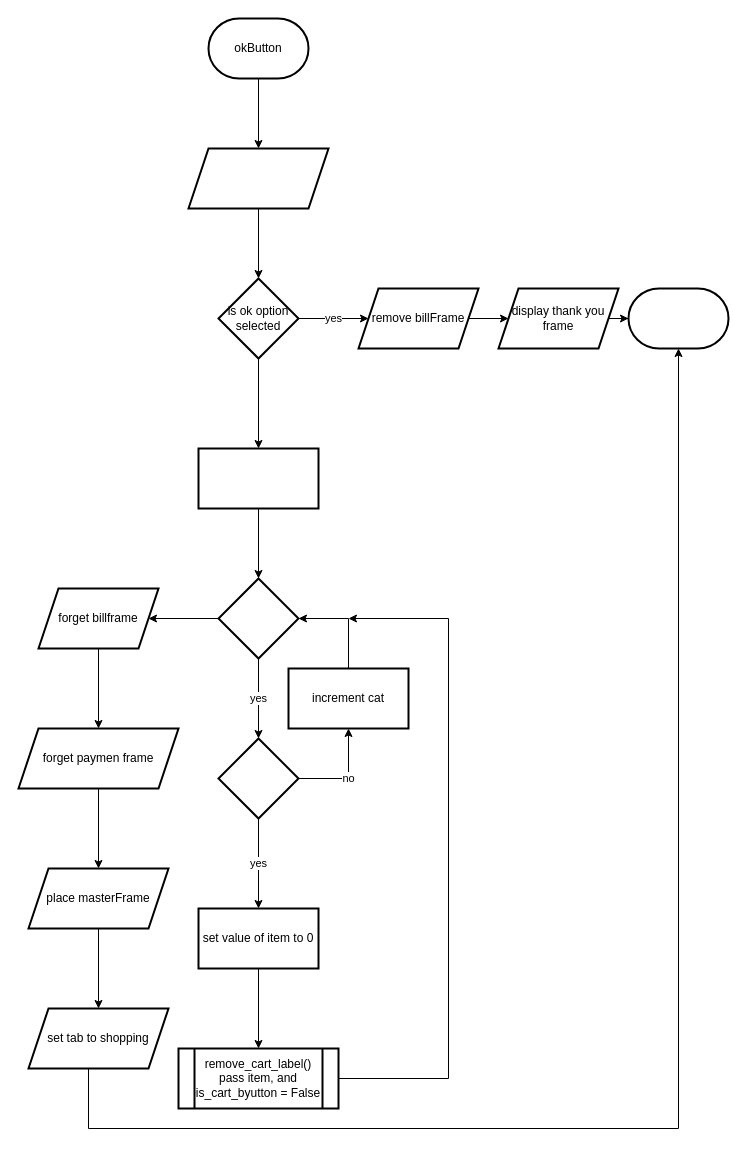
The diagram is 746 pixels wide and 1154 high, and some of its shapes have lost their labels. Here are the shapes that lost their labels. From the top down, the centre of each, then its label:
At [258,178]: "display message box asking user for if they want to purchase omre".
At [678,318]: "end".
At [258,478]: "set cat and item to 0".
At [258,618]: "is cat in cart".
At [258,778]: "is item in cat".
